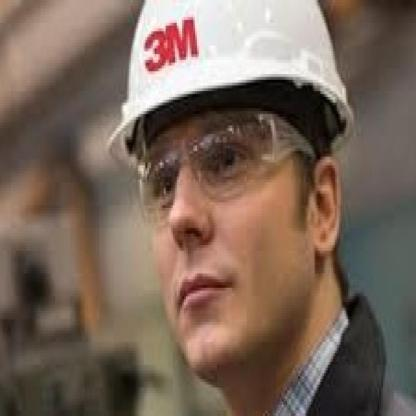capacete: (104, 0, 354, 109)
oculos: (127, 106, 316, 220)
